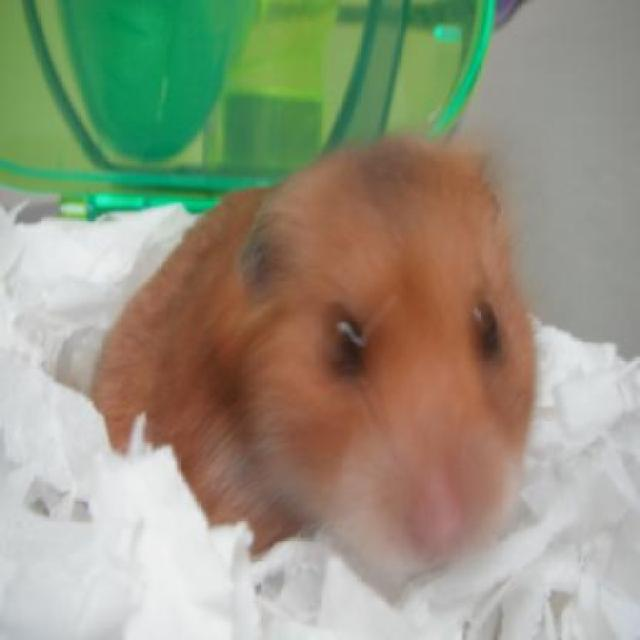Mouse: (82, 128, 547, 590)
